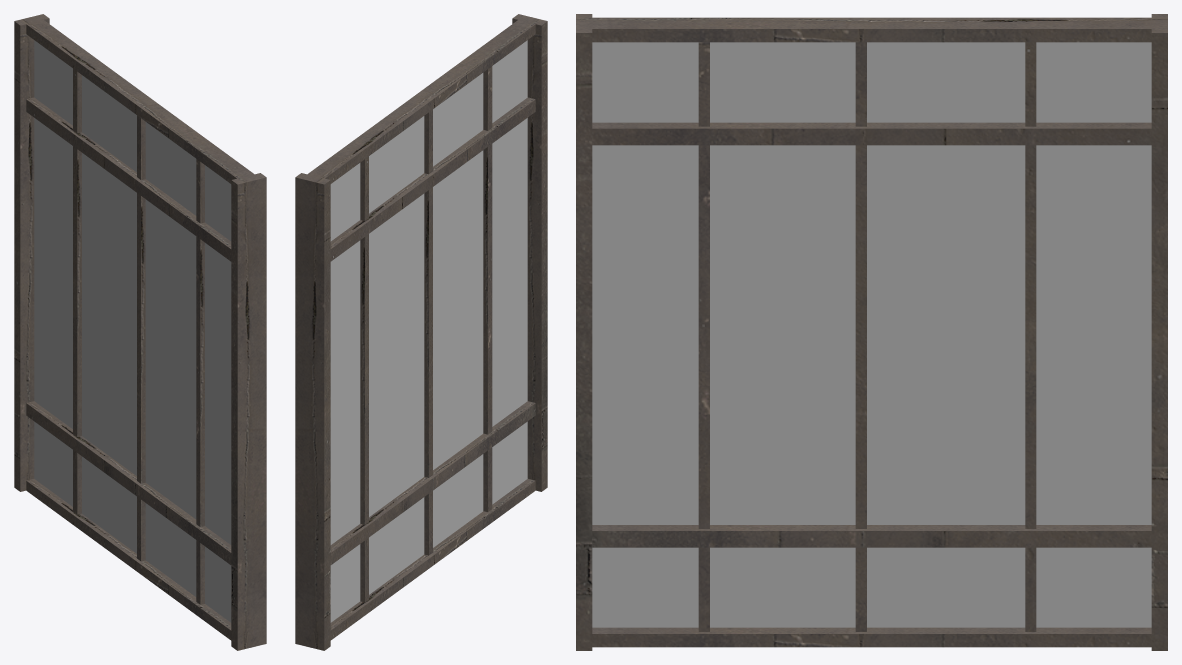
File: SM_Republic_02.fbx
3 views of the same model, side by side, from view 1: azimuth 30°, elevation 25°; view 2: azimuth 150°, elevation 25°; view 3: azimuth 270°, elevation 25° (orthographic). The views are drawn at different scales.
Visible parts, largest first — view 1: SM_Republic_00.001, SM_Republic_02.001; view 2: SM_Republic_00.001, SM_Republic_02.001; view 3: SM_Republic_00.001, SM_Republic_02.001.
Boxes of the visible parts, x1,y1,x2,y2 form: SM_Republic_00.001: [34, 40, 231, 622]; SM_Republic_02.001: [14, 14, 266, 650]; SM_Republic_00.001: [330, 40, 527, 622]; SM_Republic_02.001: [295, 14, 547, 650]; SM_Republic_00.001: [592, 42, 1151, 627]; SM_Republic_02.001: [576, 14, 1167, 650].
Bounding box in the file's own units: 31.07 × 474 × 411.
